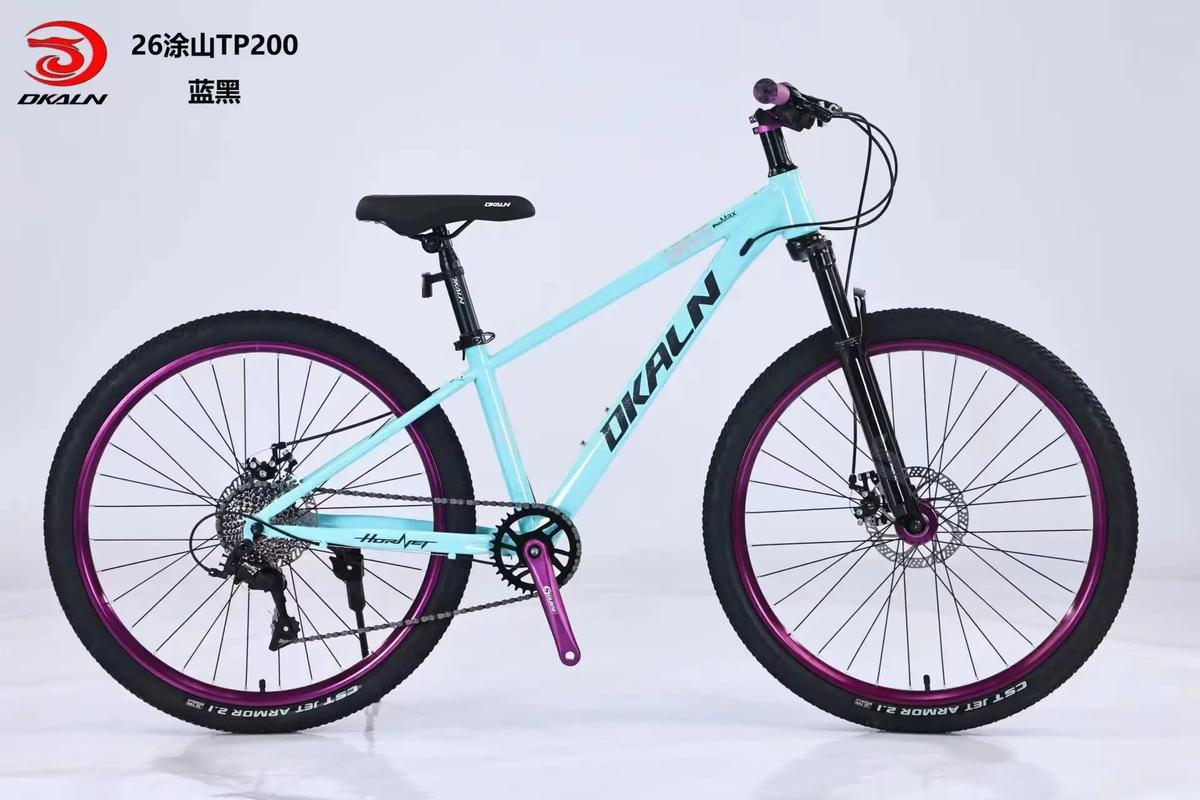单车: (1, 54, 1194, 762)
